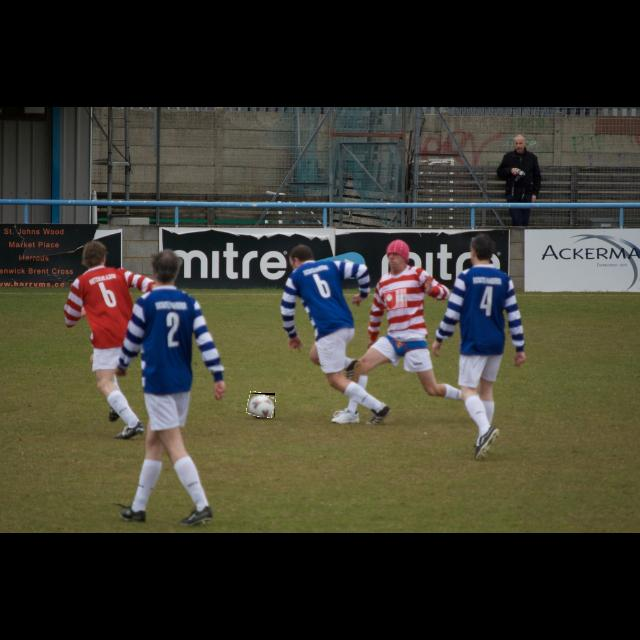Football: (247, 393, 275, 417)
